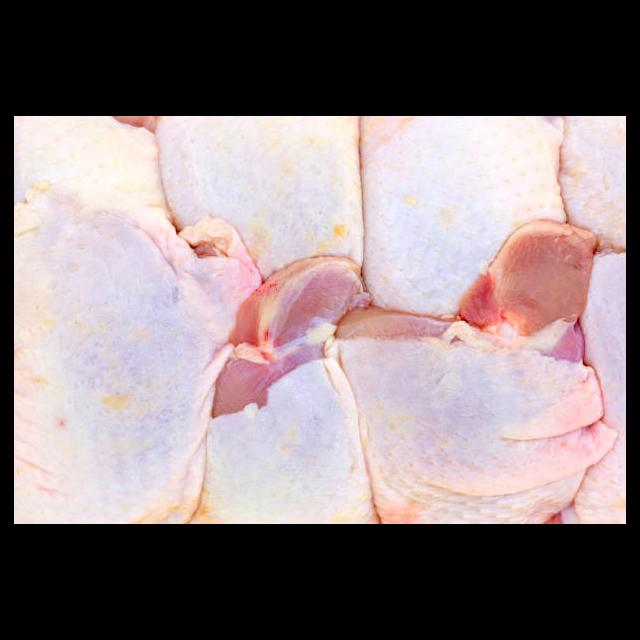chicken: (15, 186, 269, 524), (339, 219, 620, 524), (204, 251, 377, 524), (361, 117, 573, 324), (158, 117, 365, 300), (560, 117, 626, 250)
